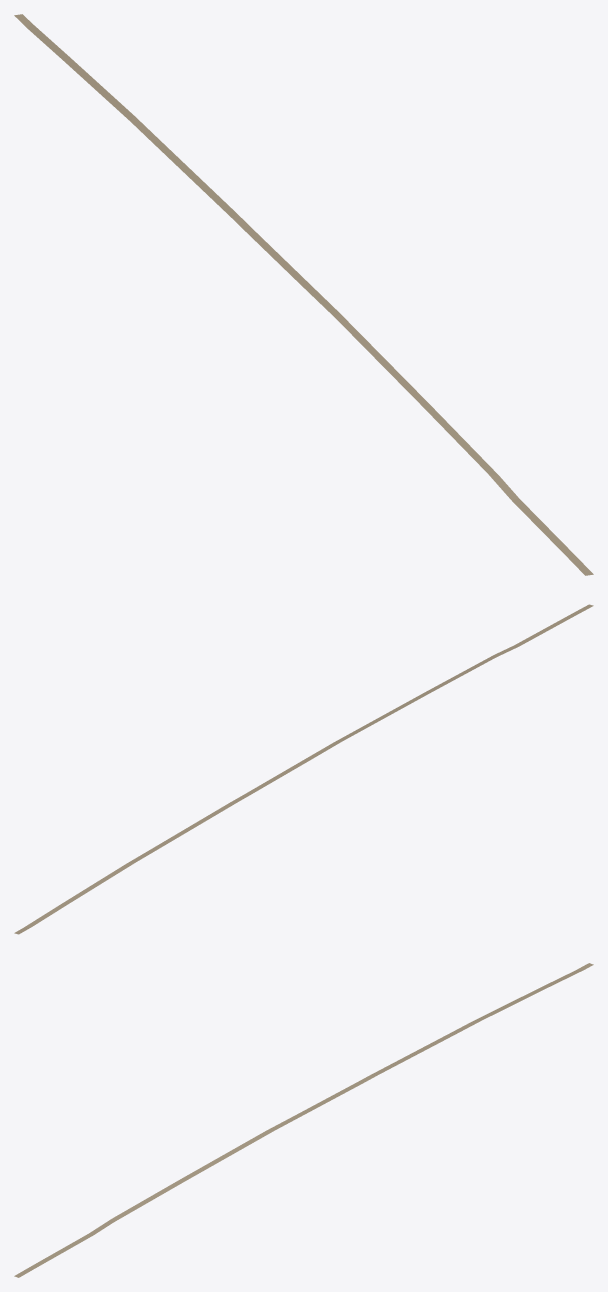
File: farm_-5_9_track.glb
3 renders of one model, top to bottom at view 1: azimuth 30°, elevation 25°; view 2: azimuth 150°, elevation 25°; view 3: azimuth 330°, elevation 25°, orthographic. The views are drawn at different scales.
Parts seen in each view (by area): view 1: geometry_0; view 2: geometry_0; view 3: geometry_0.
Part boxes in pixels (left/top/right/bottom): geometry_0: left=14, top=14, right=593, bottom=575; geometry_0: left=14, top=604, right=593, bottom=934; geometry_0: left=14, top=963, right=593, bottom=1277.
Size of the model in its own units: 66.91 by 7.53 by 509.
